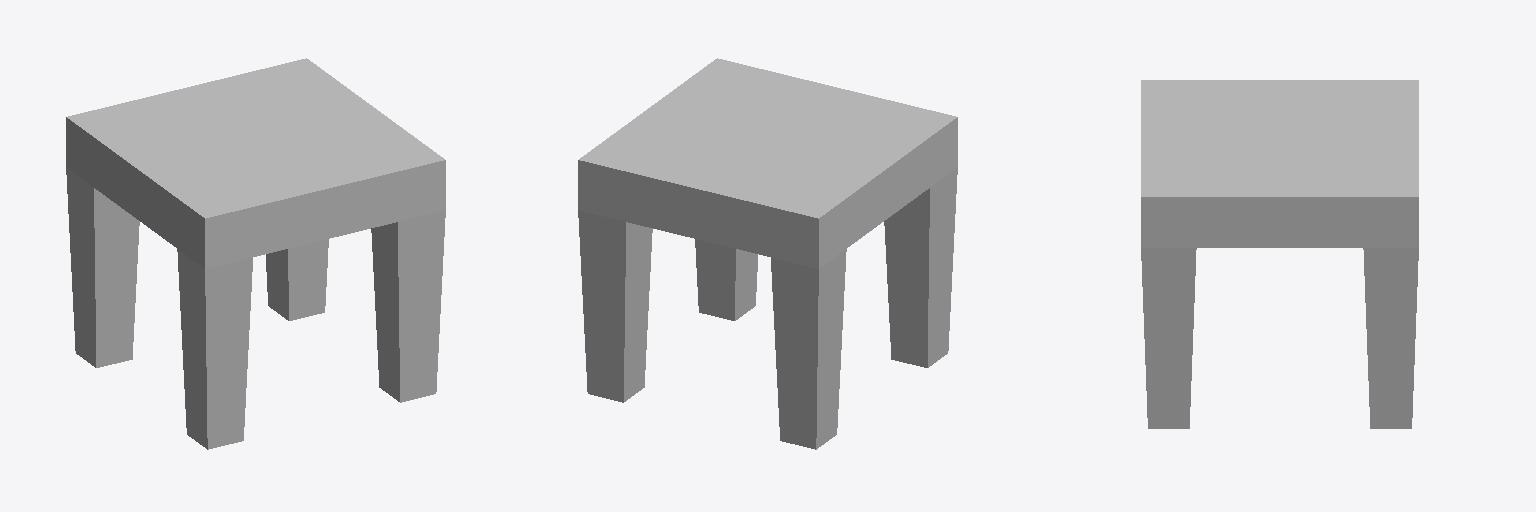
The model's file is Props_Smalltable_Geo.obj.
3 views of the same model, side by side, from view 1: azimuth 30°, elevation 25°; view 2: azimuth 150°, elevation 25°; view 3: azimuth 270°, elevation 25° (orthographic).
Parts seen in each view (by area): view 1: PropZoo:pCube70; view 2: PropZoo:pCube70; view 3: PropZoo:pCube70.
Boxes of the visible parts, x1=… form: PropZoo:pCube70: x1=66, y1=58, x2=445, y2=449; PropZoo:pCube70: x1=578, y1=58, x2=957, y2=449; PropZoo:pCube70: x1=1141, y1=80, x2=1418, y2=428.
Bounding box in the file's own units: 0.75 × 0.7 × 0.75.